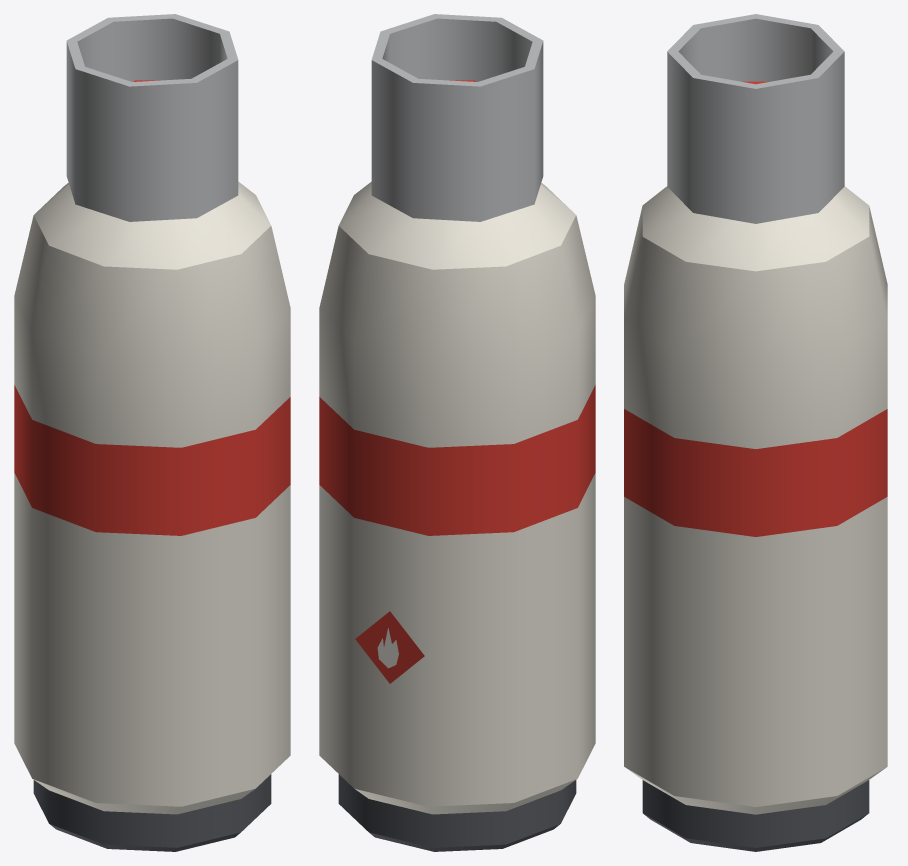
The model's file is prop_gas_tank.glb.
The picture shows the model from 3 angles, left to right: view 1: azimuth 30°, elevation 25°; view 2: azimuth 150°, elevation 25°; view 3: azimuth 270°, elevation 25°; orthographic projection.
Parts seen in each view (by area): view 1: prop_gas_tank__mesh; view 2: prop_gas_tank__mesh; view 3: prop_gas_tank__mesh.
Boxes of the visible parts, bbox=[...] form: prop_gas_tank__mesh: bbox=[14, 14, 290, 851]; prop_gas_tank__mesh: bbox=[319, 14, 595, 851]; prop_gas_tank__mesh: bbox=[624, 14, 887, 851].
Size of the model in its own units: 0.4 by 1.2 by 0.3894.
1 material, 1 textured.
